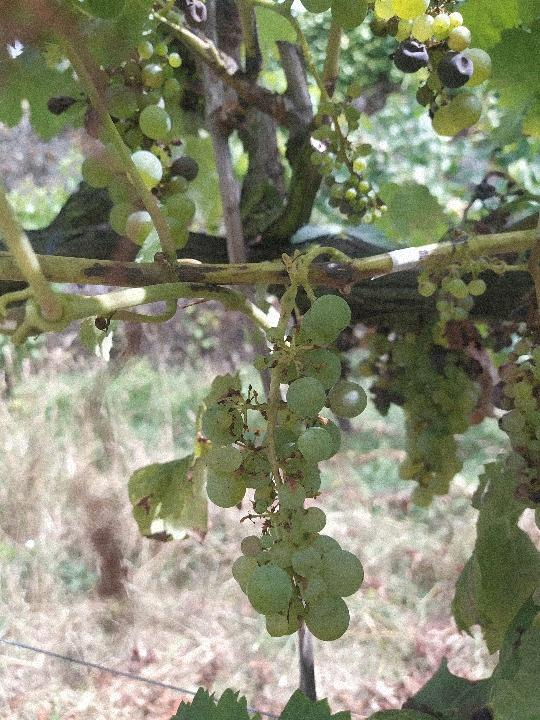grape: (199, 293, 372, 644)
